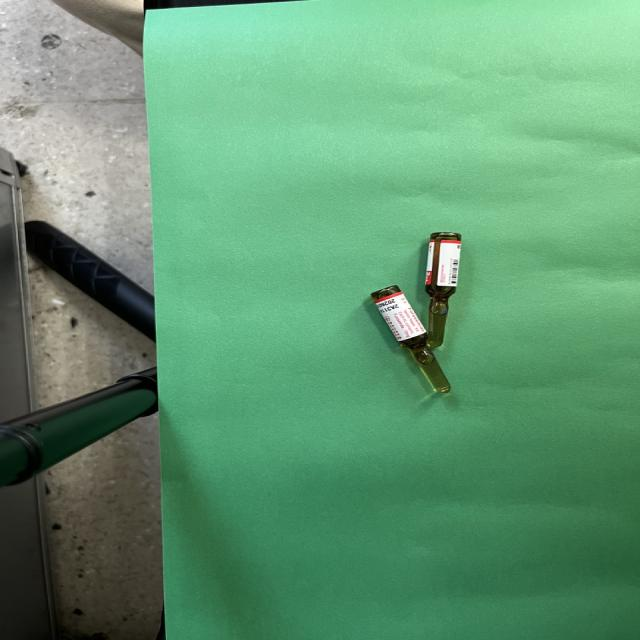Ampoules: (371, 286, 450, 394), (425, 232, 461, 348)
